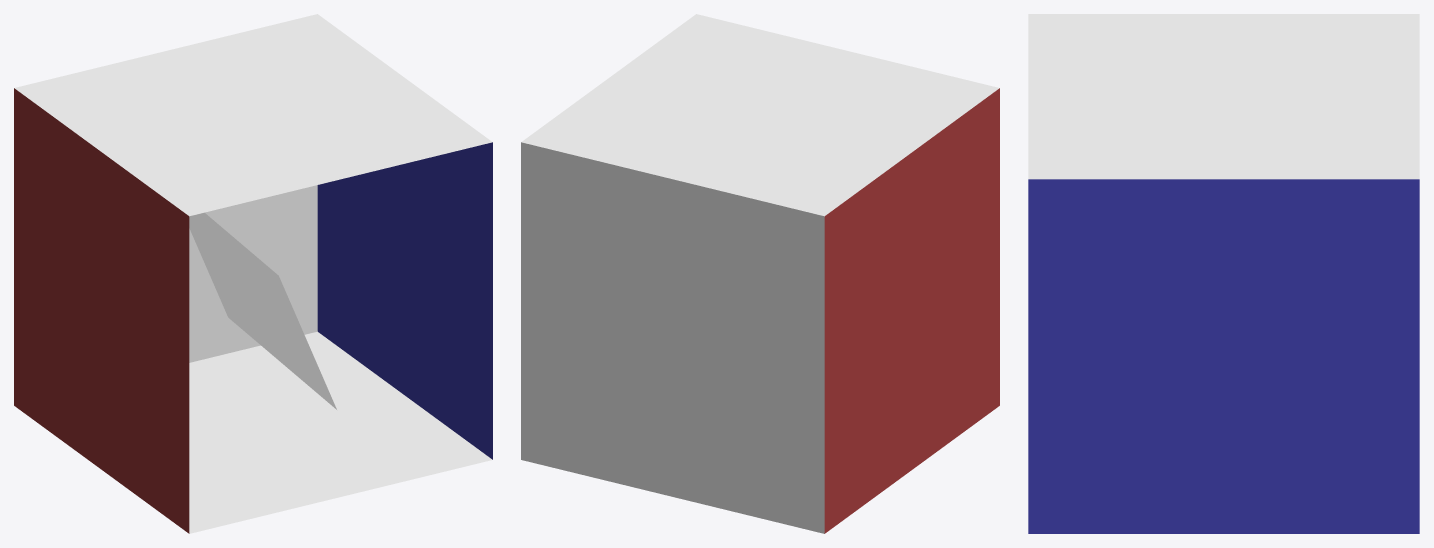
File: mirror_test.dae
The picture shows the model from 3 angles, left to right: view 1: azimuth 30°, elevation 25°; view 2: azimuth 150°, elevation 25°; view 3: azimuth 270°, elevation 25°; orthographic projection. The views are drawn at different scales.
Parts seen in each view (by area): view 1: Square-S3D-13, Square-S3D-15, Square-S3D-14, Square-S3D-17, Square-S3D-16, Square-S3D-18; view 2: Square-S3D-16, Square-S3D-13, Square-S3D-15; view 3: Square-S3D-14, Square-S3D-15.
Boxes of the visible parts, bbox=[...] form: Square-S3D-13: bbox=[14, 88, 189, 533]; Square-S3D-15: bbox=[14, 14, 492, 216]; Square-S3D-14: bbox=[317, 142, 492, 459]; Square-S3D-17: bbox=[189, 331, 492, 533]; Square-S3D-16: bbox=[189, 185, 317, 362]; Square-S3D-18: bbox=[189, 212, 336, 409]; Square-S3D-16: bbox=[521, 142, 824, 533]; Square-S3D-13: bbox=[824, 88, 999, 533]; Square-S3D-15: bbox=[521, 14, 999, 216]; Square-S3D-14: bbox=[1028, 179, 1419, 533]; Square-S3D-15: bbox=[1028, 14, 1419, 179].
Bounding box in the file's own units: 1 × 1 × 1.
